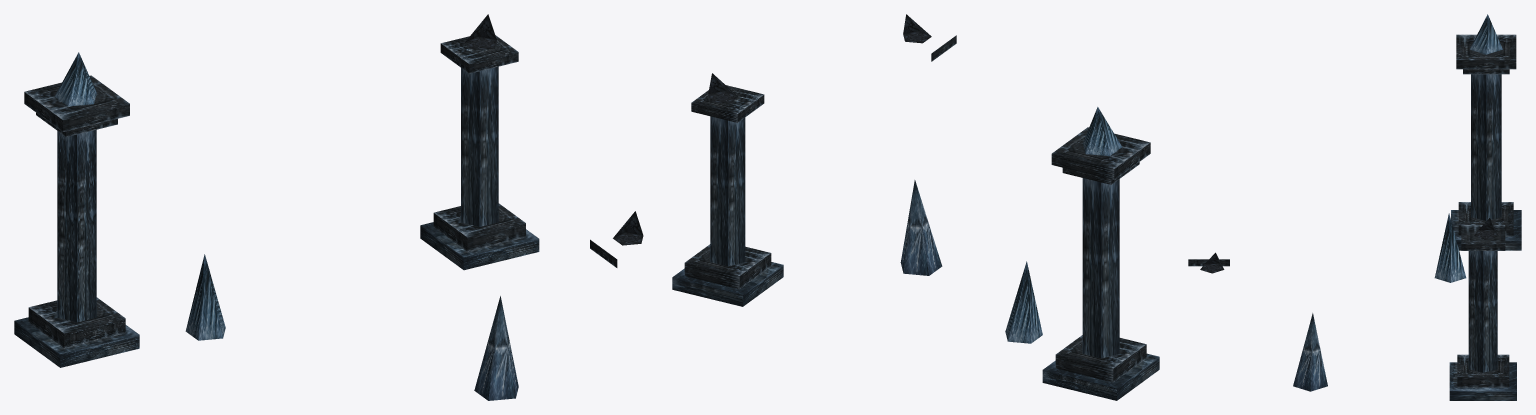
File: citadel_ascent_1.obj
3 views of the same model, side by side, from view 1: azimuth 30°, elevation 25°; view 2: azimuth 150°, elevation 25°; view 3: azimuth 270°, elevation 25° (orthographic). The views are drawn at different scales.
Visible parts, largest first — view 1: citadel_ascent_1; view 2: citadel_ascent_1; view 3: citadel_ascent_1.
Boxes of the visible parts, box(x1,y1,x2,y2) form: citadel_ascent_1: box(14, 14, 643, 400); citadel_ascent_1: box(672, 14, 1159, 400); citadel_ascent_1: box(1188, 14, 1521, 400).
Size of the model in its own units: 14.32 by 9.45 by 11.19.
1 material, 1 textured.
